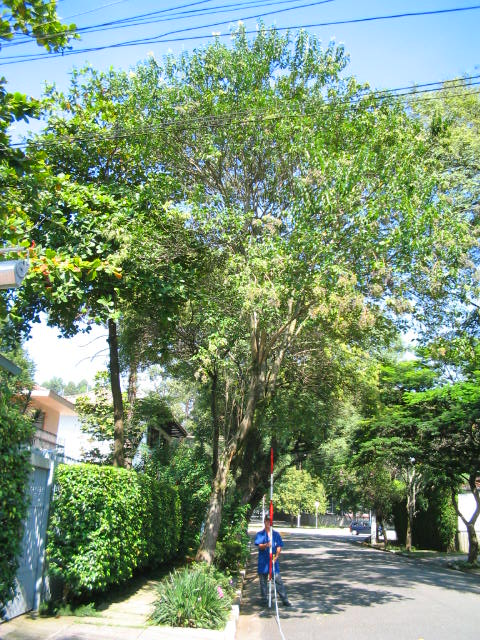crown: (49, 26, 453, 438)
stem: (174, 465, 235, 611)
stick: (261, 447, 282, 608)
tree: (45, 22, 453, 613)
